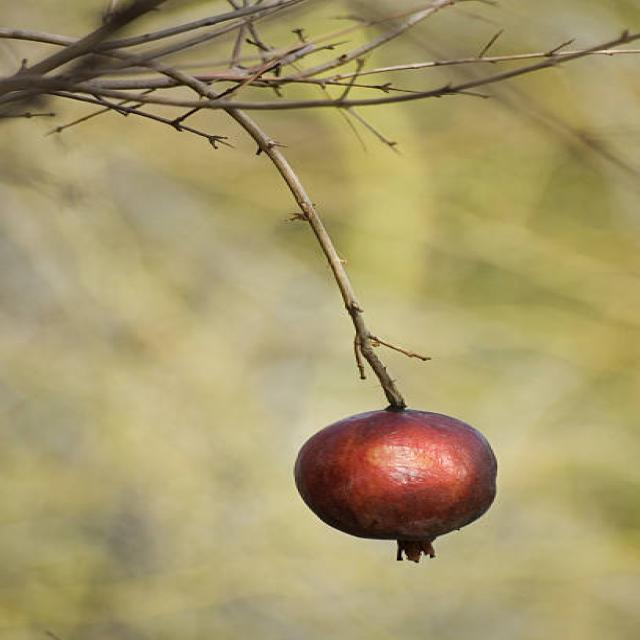Rotten: (293, 407, 506, 563)
